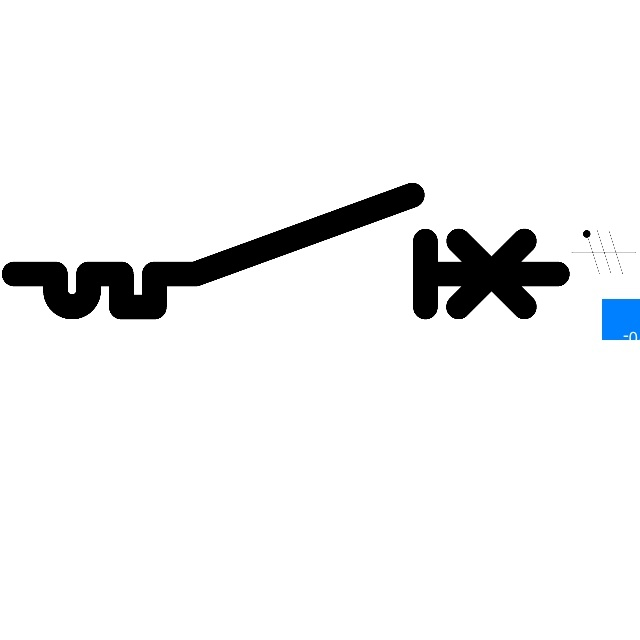interruptor_termomagnetico: (0, 181, 571, 321)
